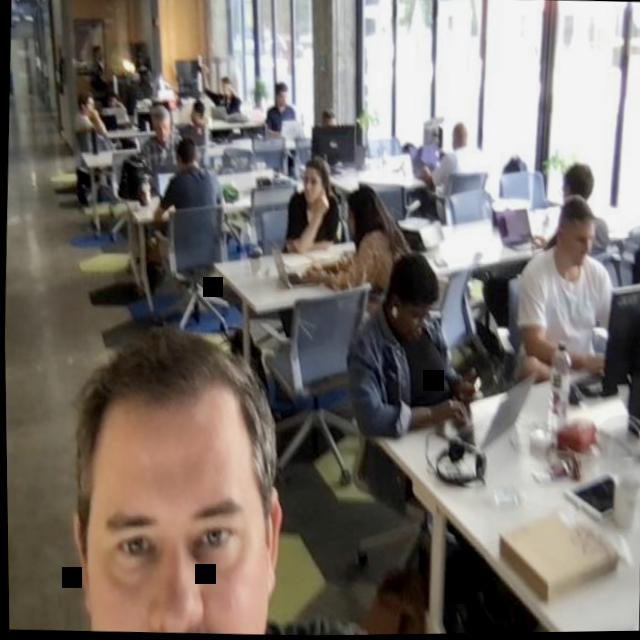NO-Mask: (383, 252, 439, 346), (553, 194, 595, 273), (298, 156, 328, 207), (145, 106, 171, 146), (271, 80, 289, 110), (77, 90, 95, 117), (220, 78, 232, 97)
